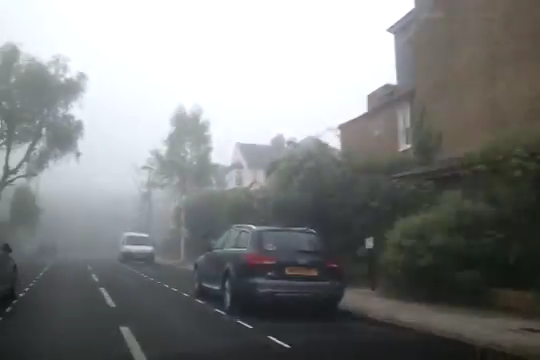car: (191, 220, 348, 317), (116, 230, 156, 266)
